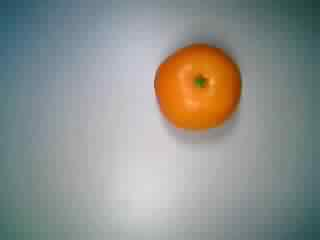orange: (150, 33, 245, 135)
